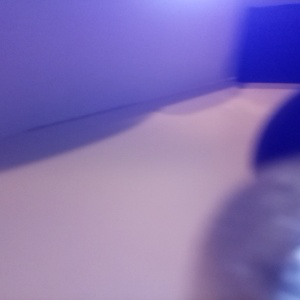alive_ball: (194, 161, 300, 300)
dead_ball: (254, 89, 300, 203)
